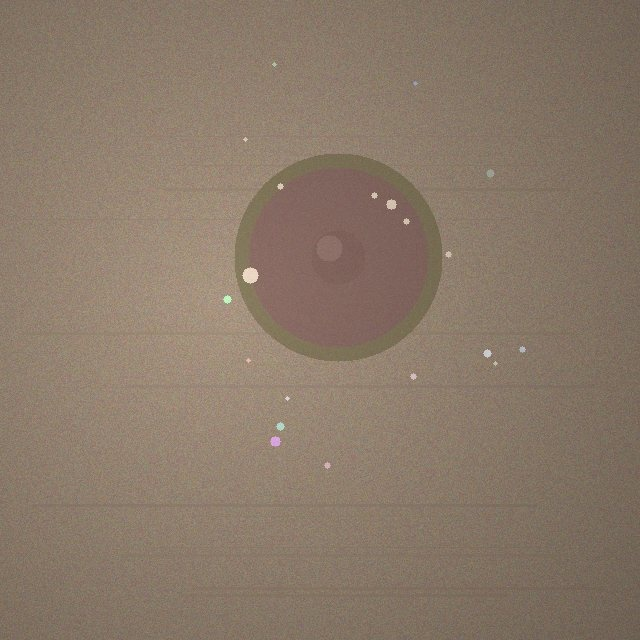overburn: (234, 153, 442, 361)
